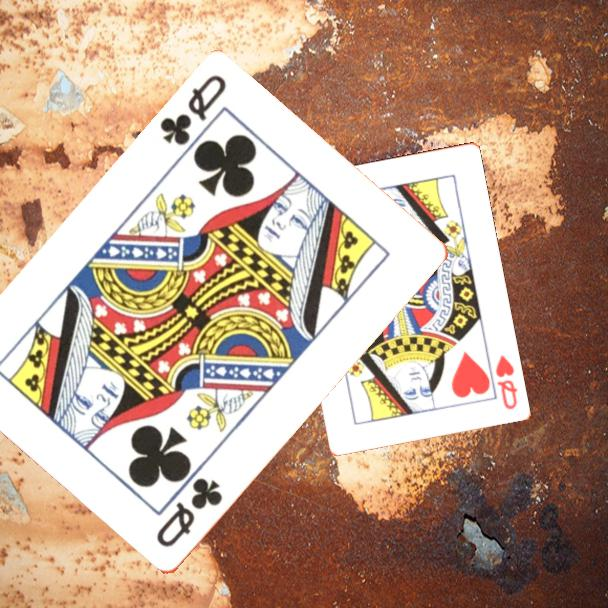c12: (152, 474, 226, 552), (156, 71, 230, 149)
h12: (492, 351, 520, 412)
